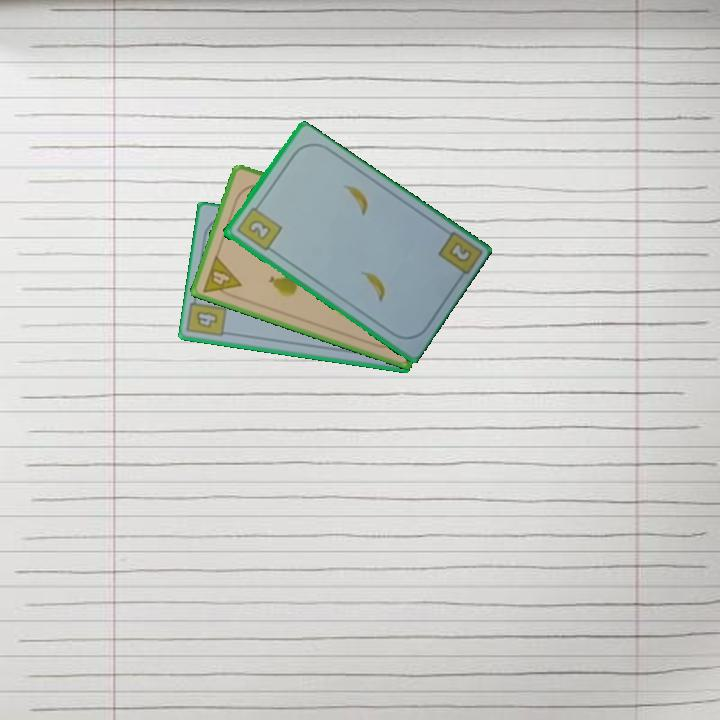2b: (233, 200, 284, 254), (445, 238, 475, 265)
4b: (192, 308, 220, 331)
4p: (199, 252, 244, 302)
